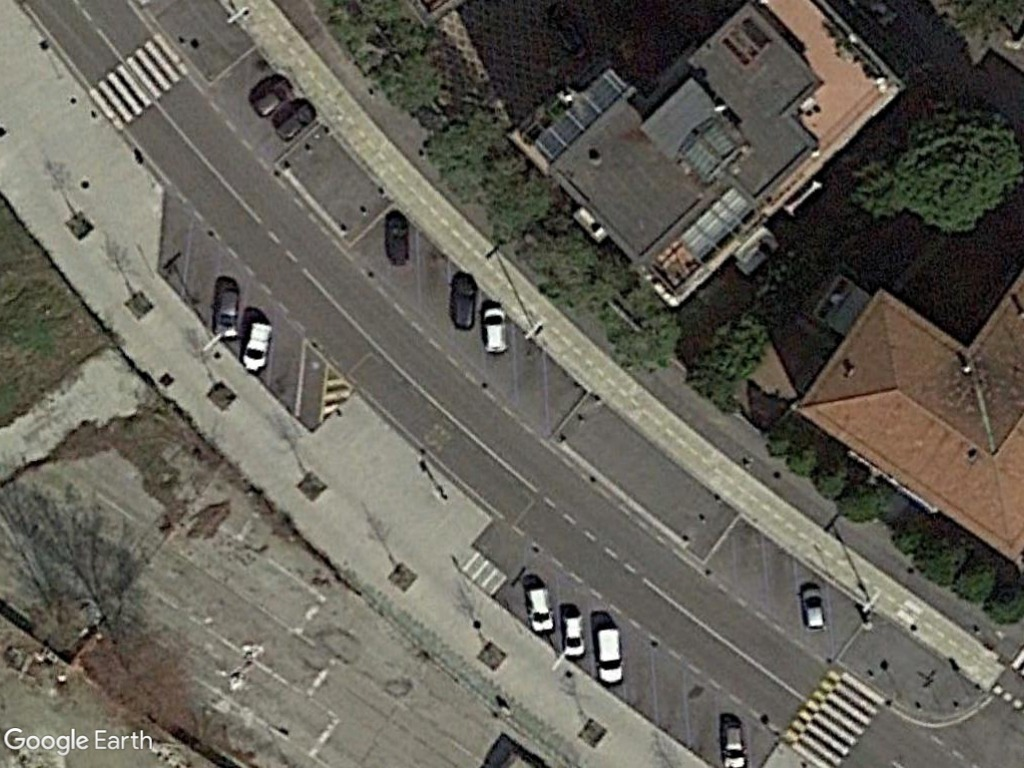car: (211, 274, 244, 343), (247, 70, 293, 119), (273, 97, 320, 144), (521, 580, 558, 638), (795, 580, 832, 634), (239, 320, 274, 376), (383, 211, 415, 271), (450, 267, 479, 333), (559, 608, 588, 664), (718, 715, 748, 768), (481, 304, 508, 356)
van: (592, 624, 628, 690)
